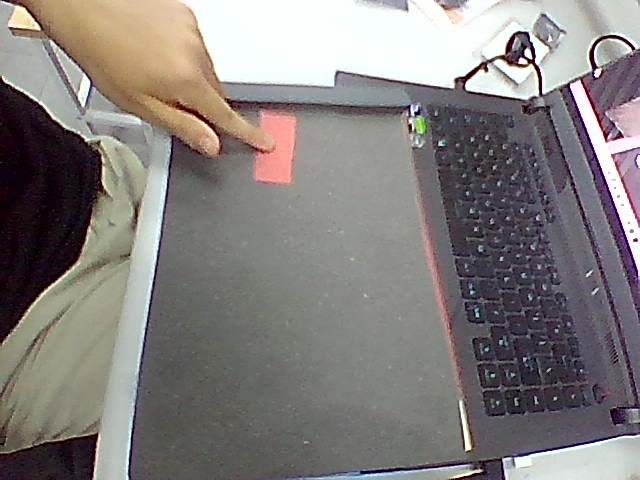card: (255, 110, 295, 184)
